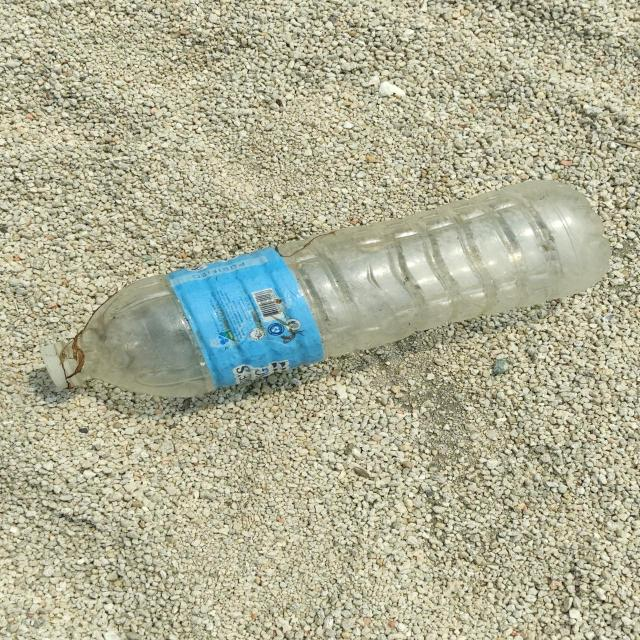plastic_waste: (39, 179, 614, 401)
